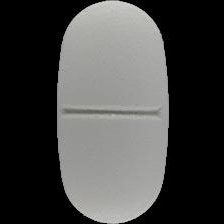63187-149: (0, 0, 224, 224)
